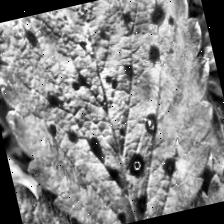Leaf Spot: (0, 0, 224, 224), (13, 156, 133, 224), (135, 147, 224, 218)
